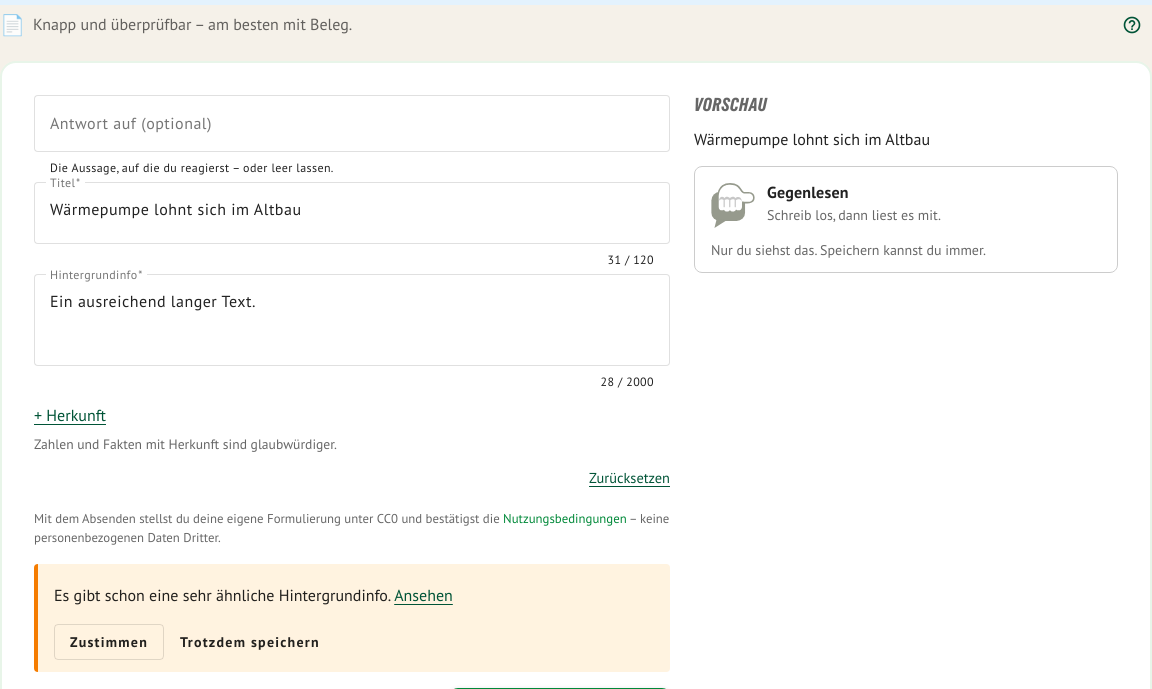
Scenario: AddGenerictextComponent › Dublette › Zustimmen: gibt der vorhandenen Hintergrundinfo eine Stimme, meldet sie und keinen Erfolg
What coordinates should you click on to do the following:
click the button with class "dublette-zustimmen"
I would click on:
 (109, 642)
Its box is top-left (54, 624), bottom-right (164, 660).
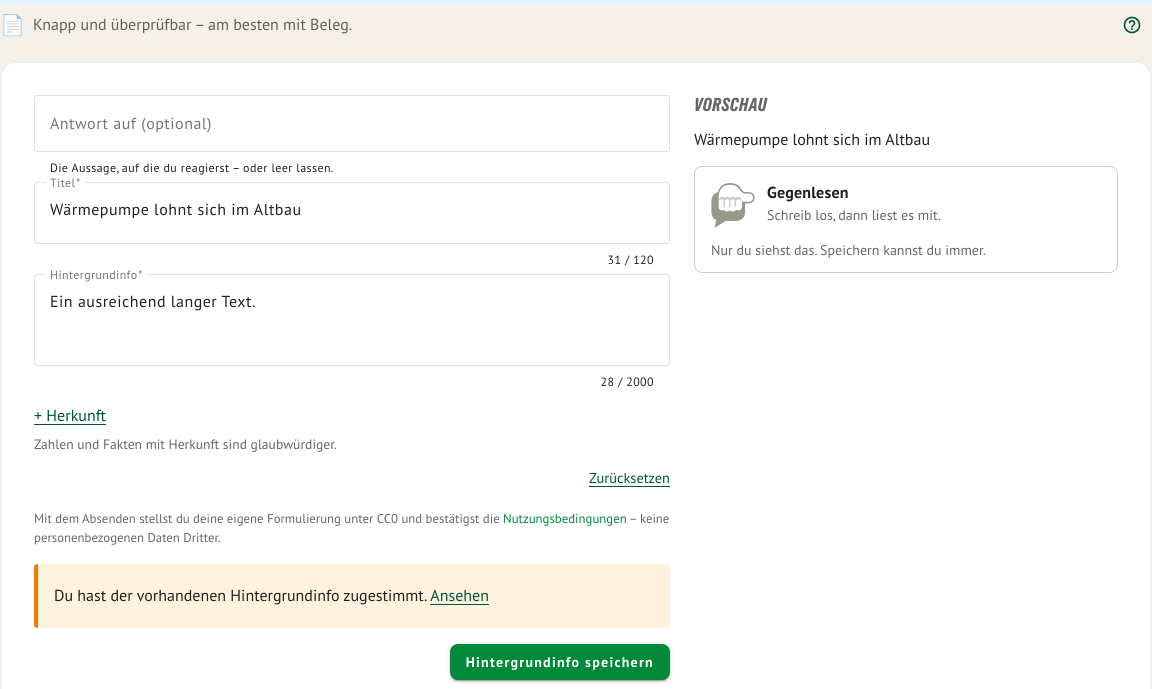
Now the element with class "dubletten-hinweis" shows "Du hast der vorhandenen Hintergrundinfo zugestimmt.", box top-left (54, 587), bottom-right (430, 605)
Now the button with class "dublette-zustimmen" is gone
Now the button with class "dublette-trotzdem" is gone
